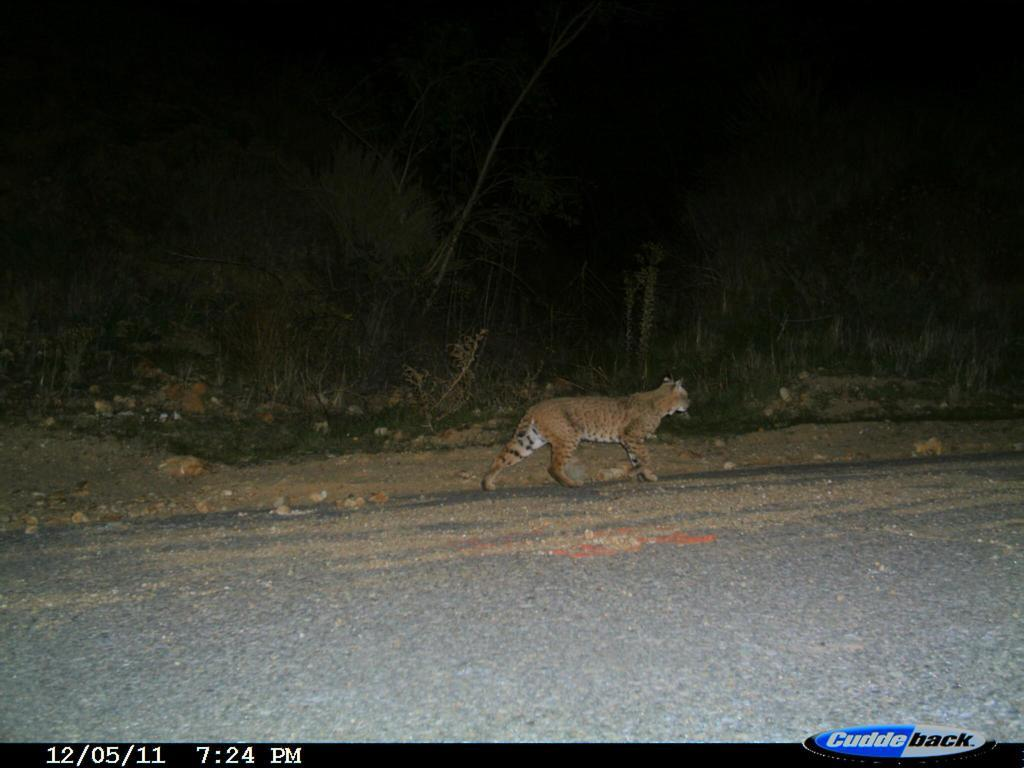bobcat: (484, 358, 716, 507)
